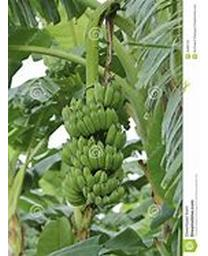banana: (61, 81, 131, 211)
